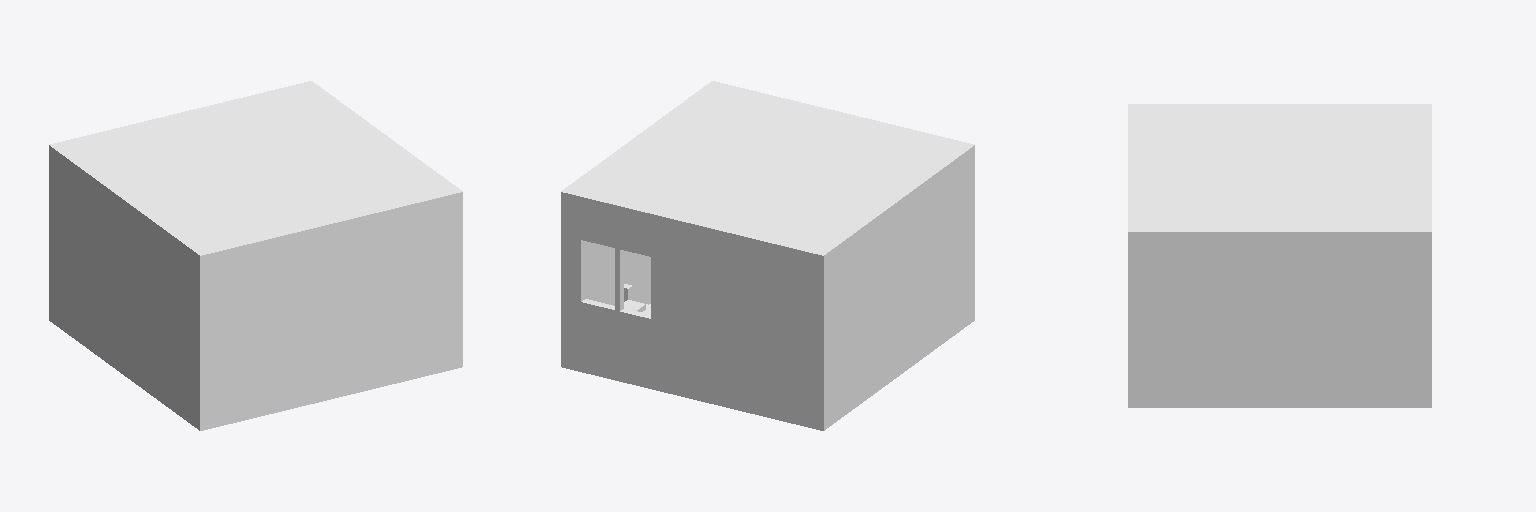
Rendered from room-sized.obj.
The picture shows the model from 3 angles: view 1: azimuth 30°, elevation 25°; view 2: azimuth 150°, elevation 25°; view 3: azimuth 270°, elevation 25°; orthographic projection.
Parts seen in each view (by area): view 1: room; view 2: room; view 3: room.
Part boxes in pixels (left/top/right/bottom): room: left=49, top=81, right=462, bottom=430; room: left=561, top=81, right=974, bottom=430; room: left=1128, top=104, right=1431, bottom=407.
Size of the model in its own units: 85.65 by 54.58 by 85.65.